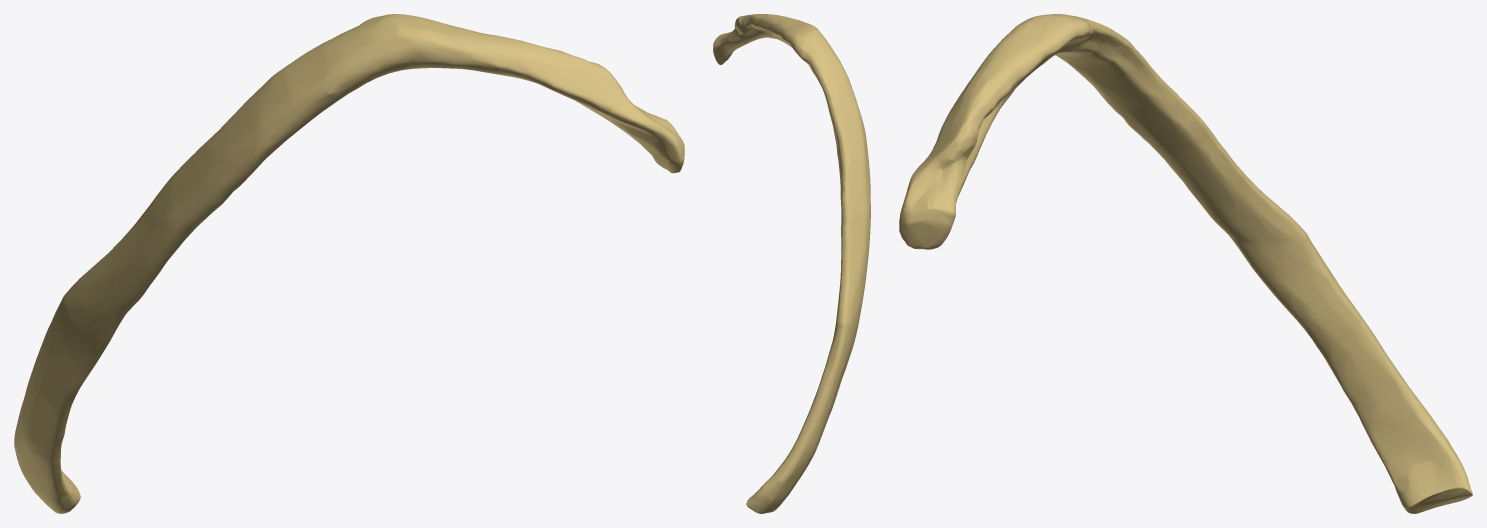
The picture shows the model from 3 angles, left to right: view 1: azimuth 30°, elevation 25°; view 2: azimuth 150°, elevation 25°; view 3: azimuth 270°, elevation 25°; orthographic projection. The views are drawn at different scales.
Visible parts, largest first — view 1: 右侧第八肋; view 2: 右侧第八肋; view 3: 右侧第八肋.
Part boxes in pixels (<box>): 右侧第八肋: <box>14,14,684,513</box>; 右侧第八肋: <box>713,14,870,513</box>; 右侧第八肋: <box>899,14,1472,513</box>.
Bounding box in the file's own units: 0.1737 × 0.2408 × 0.2233.
